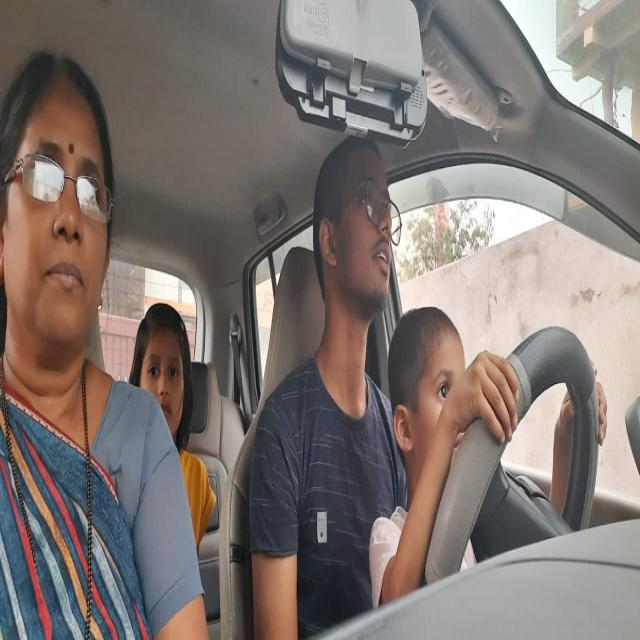child: (386, 292, 480, 486)
person: (0, 35, 126, 400), (312, 132, 402, 320), (131, 294, 198, 442)
